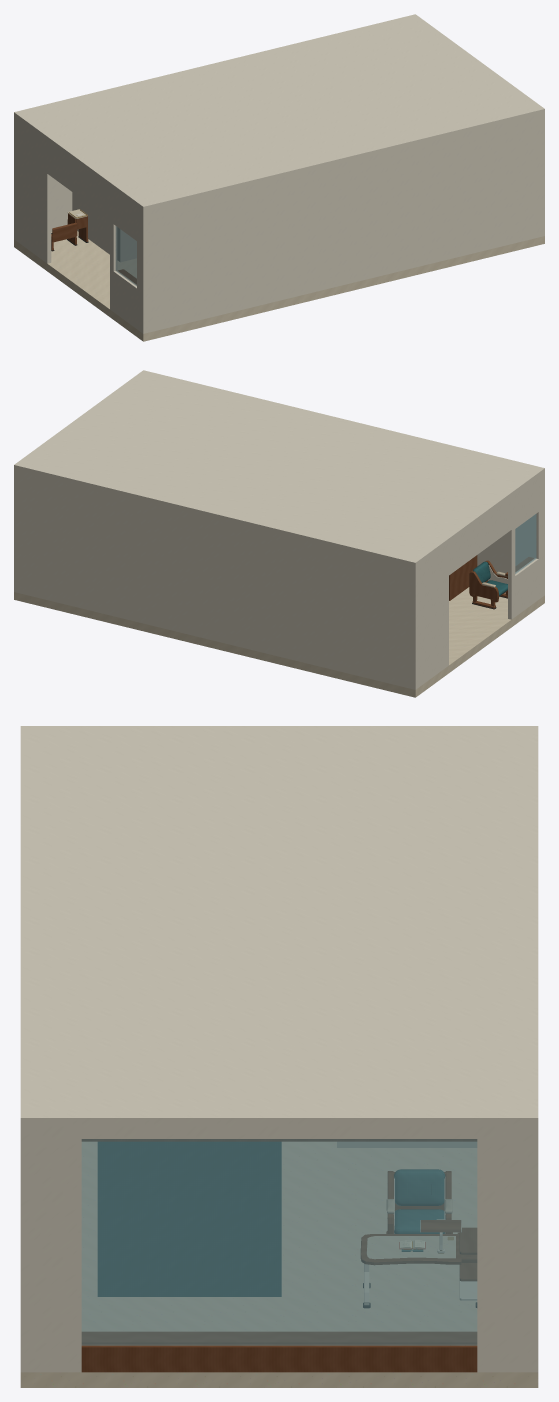
File: QuietGroveSpecialty_379_r002.glb
3 views of the same model, one above another, from view 1: azimuth 30°, elevation 25°; view 2: azimuth 150°, elevation 25°; view 3: azimuth 270°, elevation 25° (orthographic). The views are drawn at different scales.
Parts seen in each view (by area): view 1: QG379_Ceiling, QG379_NorthSide, QG379_RoomFloor, QG379_EntryShoulderSouth, QG379_EntryHeader, QG379_StreetWindowLower, QG379_WashEntrySide, QG379_SouthSide, QG379_StreetWindowUpper, QG379_ScreenedStreetGlass; view 2: QG379_Ceiling, QG379_SouthSide, QG379_RoomFloor, QG379_EntryShoulderSouth, QG379_EntryHeader, QG379_NorthSide, QG379_StreetWindowLower, QG379_StreetWindowUpper, QG379_ScreenedStreetGlass, QG379_EntryPrivacyDogleg, QG379_QG379_StreetReadingChair__DAY_CHAIR_R_swept_walnut_che; view 3: QG379_Ceiling, QG379_CourtPanoramicGlass, QG379_RoomFloor, QG379_Cocoon01_RearLiner, QG379_CourtJambNorth, QG379_CourtJambSouth, QG379_CourtSill, QG379_CourtHeader, QG379_CourtRevealBottom, QG379_NorthSide, QG379_SouthSide, QG379_QG379_DayReadingChair__DAY_CHAIR_single_reclined_back (+6 smaller).
Boxes of the visible parts, left/top/right/bottom form: QG379_Ceiling: left=14, top=14, right=544, bottom=211; QG379_NorthSide: left=141, top=114, right=544, bottom=333; QG379_RoomFloor: left=14, top=231, right=544, bottom=341; QG379_EntryShoulderSouth: left=16, top=119, right=51, bottom=263; QG379_EntryHeader: left=46, top=142, right=110, bottom=219; QG379_StreetWindowLower: left=110, top=269, right=141, bottom=331; QG379_WashEntrySide: left=72, top=192, right=123, bottom=261; QG379_SouthSide: left=14, top=117, right=72, bottom=240; QG379_StreetWindowUpper: left=110, top=188, right=141, bottom=243; QG379_ScreenedStreetGlass: left=115, top=226, right=136, bottom=285; QG379_Ceiling: left=14, top=370, right=544, bottom=567; QG379_SouthSide: left=14, top=470, right=417, bottom=689; QG379_RoomFloor: left=14, top=587, right=544, bottom=697; QG379_EntryShoulderSouth: left=417, top=544, right=448, bottom=687; QG379_EntryHeader: left=448, top=497, right=512, bottom=575; QG379_NorthSide: left=477, top=473, right=544, bottom=596; QG379_StreetWindowLower: left=508, top=556, right=542, bottom=619; QG379_StreetWindowUpper: left=510, top=475, right=542, bottom=531; QG379_ScreenedStreetGlass: left=515, top=514, right=536, bottom=573; QG379_EntryPrivacyDogleg: left=449, top=555, right=477, bottom=600; QG379_QG379_StreetReadingChair__DAY_CHAIR_R_swept_walnut_che: left=469, top=571, right=498, bottom=602; QG379_Ceiling: left=20, top=726, right=538, bottom=1128; QG379_CourtPanoramicGlass: left=81, top=1139, right=477, bottom=1345; QG379_RoomFloor: left=20, top=1142, right=538, bottom=1387; QG379_Cocoon01_RearLiner: left=102, top=1142, right=276, bottom=1296; QG379_CourtJambNorth: left=477, top=1124, right=538, bottom=1372; QG379_CourtJambSouth: left=20, top=1124, right=81, bottom=1372; QG379_CourtSill: left=81, top=1344, right=477, bottom=1372; QG379_CourtHeader: left=81, top=1124, right=477, bottom=1138; QG379_CourtRevealBottom: left=82, top=1332, right=476, bottom=1343; QG379_NorthSide: left=20, top=1128, right=29, bottom=1372; QG379_SouthSide: left=529, top=1128, right=538, bottom=1372; QG379_QG379_DayReadingChair__DAY_CHAIR_single_reclined_back: left=394, top=1169, right=444, bottom=1205.
Bounding box in the file's own units: 12.9 × 4.14 × 7.2.
Materials: 64 (49 with a texture image).
